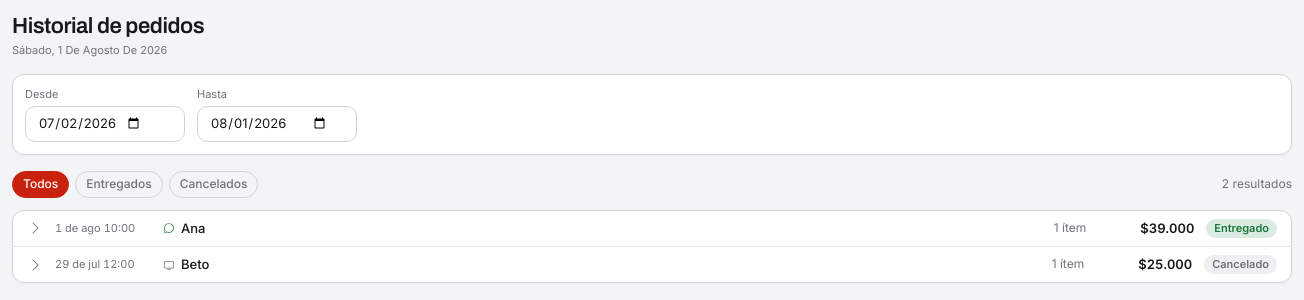
Scenario: TabHistorialServicios — restaurante (pedidos) › el chip de estado filtra (Cancelados deja solo el cancelado)
Expected: the text "Ana" is shown, top-left (181, 219), bottom-right (205, 238)
Step 1. Click the button "Cancelados" → [214, 184], box top-left (169, 171), bottom-right (258, 198)
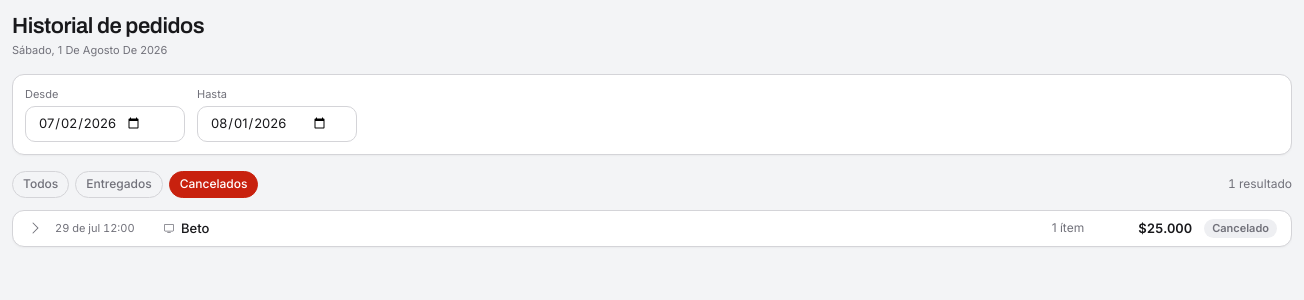
Expected: the text "Beto" is shown, top-left (181, 219), bottom-right (209, 238)
Expected: the button "Ana" is gone
Expected: the text "1 resultado" is shown, top-left (1228, 176), bottom-right (1292, 193)
